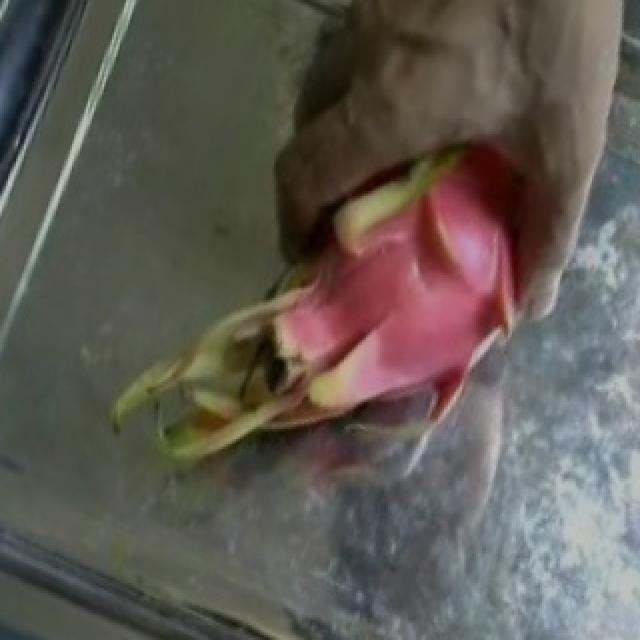fruit: (136, 69, 566, 531)
